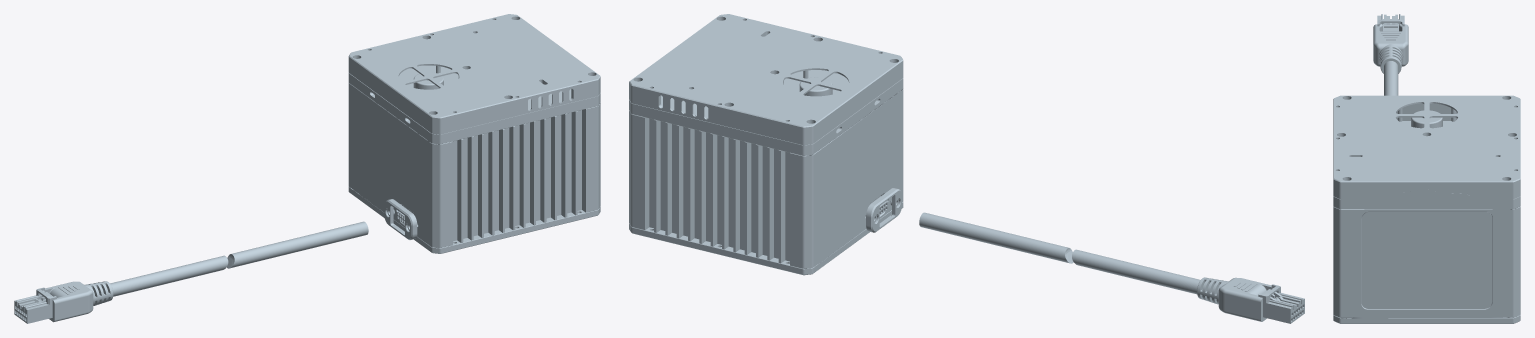
The model's file is tele.dae.
3 views of the same model, side by side, from view 1: azimuth 30°, elevation 25°; view 2: azimuth 150°, elevation 25°; view 3: azimuth 270°, elevation 25° (orthographic). The views are drawn at different scales.
Visible parts, largest first — view 1: node0; view 2: node0; view 3: node0.
Part boxes in pixels (bbox=[...]): node0: bbox=[14, 14, 600, 323]; node0: bbox=[629, 14, 1304, 323]; node0: bbox=[1333, 14, 1520, 323].
Size of the model in its own units: 0.4007 by 0.112 by 0.0942.
